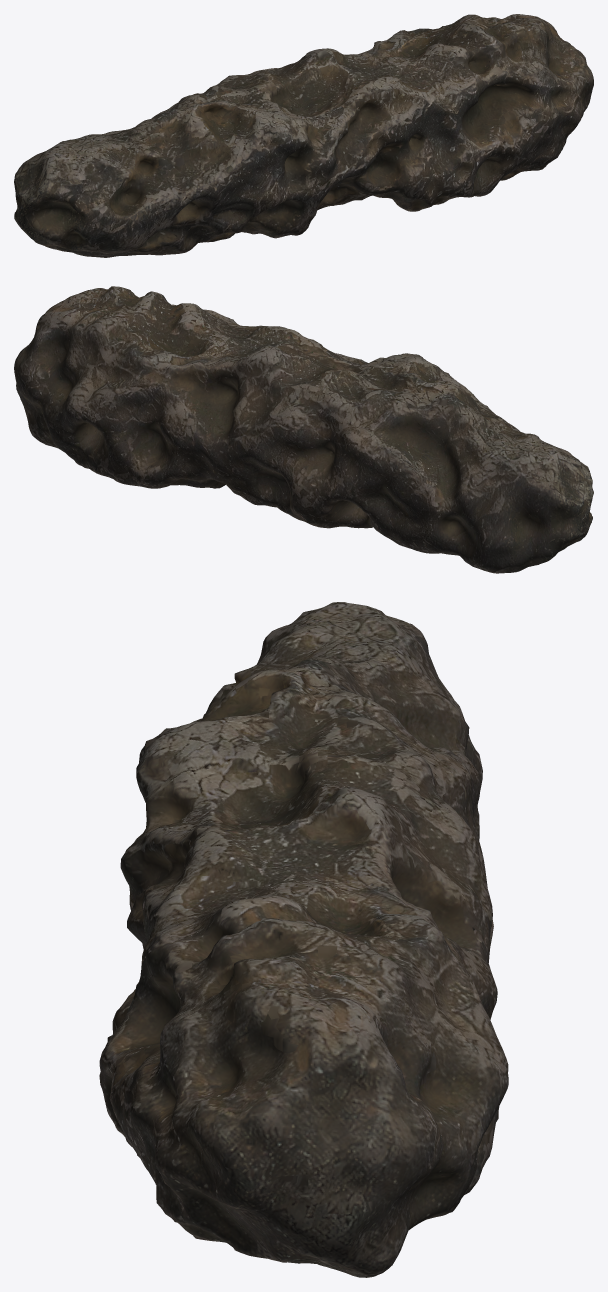
Rendered from asteroid_uncommon_1.glb.
3 renders of one model, top to bottom at view 1: azimuth 30°, elevation 25°; view 2: azimuth 150°, elevation 25°; view 3: azimuth 270°, elevation 25°, orthographic. The views are drawn at different scales.
Visible parts, largest first — view 1: model; view 2: model; view 3: model.
Boxes of the visible parts, x1,y1,x2,y2 form: model: (14, 14, 593, 257); model: (14, 286, 593, 573); model: (99, 602, 508, 1277).
Bounding box in the file's own units: 1.89 × 0.5107 × 0.6123.
1 material, 1 textured.
